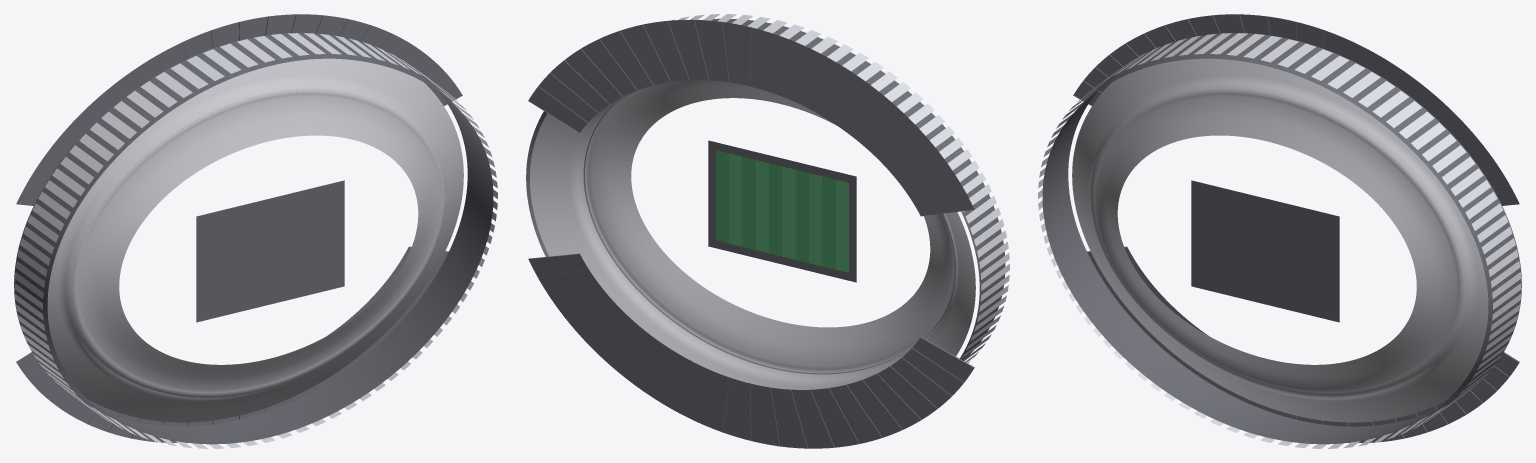
The model's file is stadium_retractable.glb.
3 renders of one model, left to right at view 1: azimuth 30°, elevation 25°; view 2: azimuth 150°, elevation 25°; view 3: azimuth 330°, elevation 25°, orthographic.
Parts seen in each view (by area): view 1: stadium_retractable; view 2: stadium_retractable; view 3: stadium_retractable.
Part boxes in pixels (x1,y1,x2,y2): stadium_retractable: (14, 14, 497, 448); stadium_retractable: (526, 14, 1009, 448); stadium_retractable: (1038, 14, 1521, 448).
Size of the model in its own units: 359 by 312 by 44.6.
